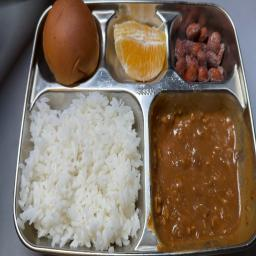100_nuts: (173, 20, 228, 83)
100_orange: (110, 11, 168, 85)
100_rice: (23, 93, 144, 249)
50_bread: (41, 0, 103, 86)
empty: (150, 100, 248, 238)
